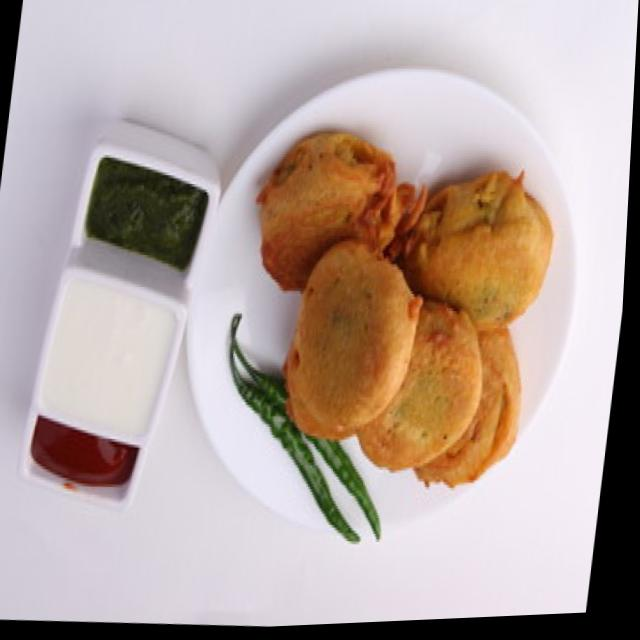BONDA: (258, 132, 553, 484)
CURD: (40, 270, 173, 441)
GREEN CHUTNEY: (85, 159, 205, 271)
SAUCE: (30, 419, 137, 485)
